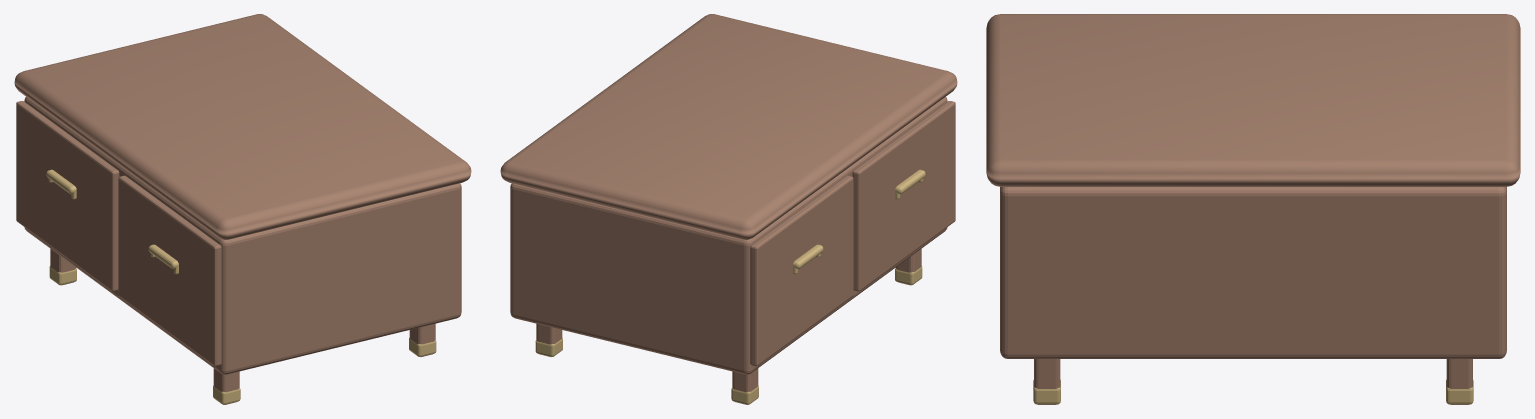
File: HefuP1_WalnutCoffee.fbx
3 views of the same model, side by side, from view 1: azimuth 30°, elevation 25°; view 2: azimuth 150°, elevation 25°; view 3: azimuth 270°, elevation 25° (orthographic). The views are drawn at different scales.
Parts seen in each view (by area): view 1: HefuP1_WalnutCoffee; view 2: HefuP1_WalnutCoffee; view 3: HefuP1_WalnutCoffee.
Boxes of the visible parts, bbox=[...] form: HefuP1_WalnutCoffee: bbox=[14, 14, 471, 404]; HefuP1_WalnutCoffee: bbox=[500, 14, 957, 404]; HefuP1_WalnutCoffee: bbox=[986, 14, 1520, 404].
Size of the model in its own units: 72 by 52.8 by 101.
